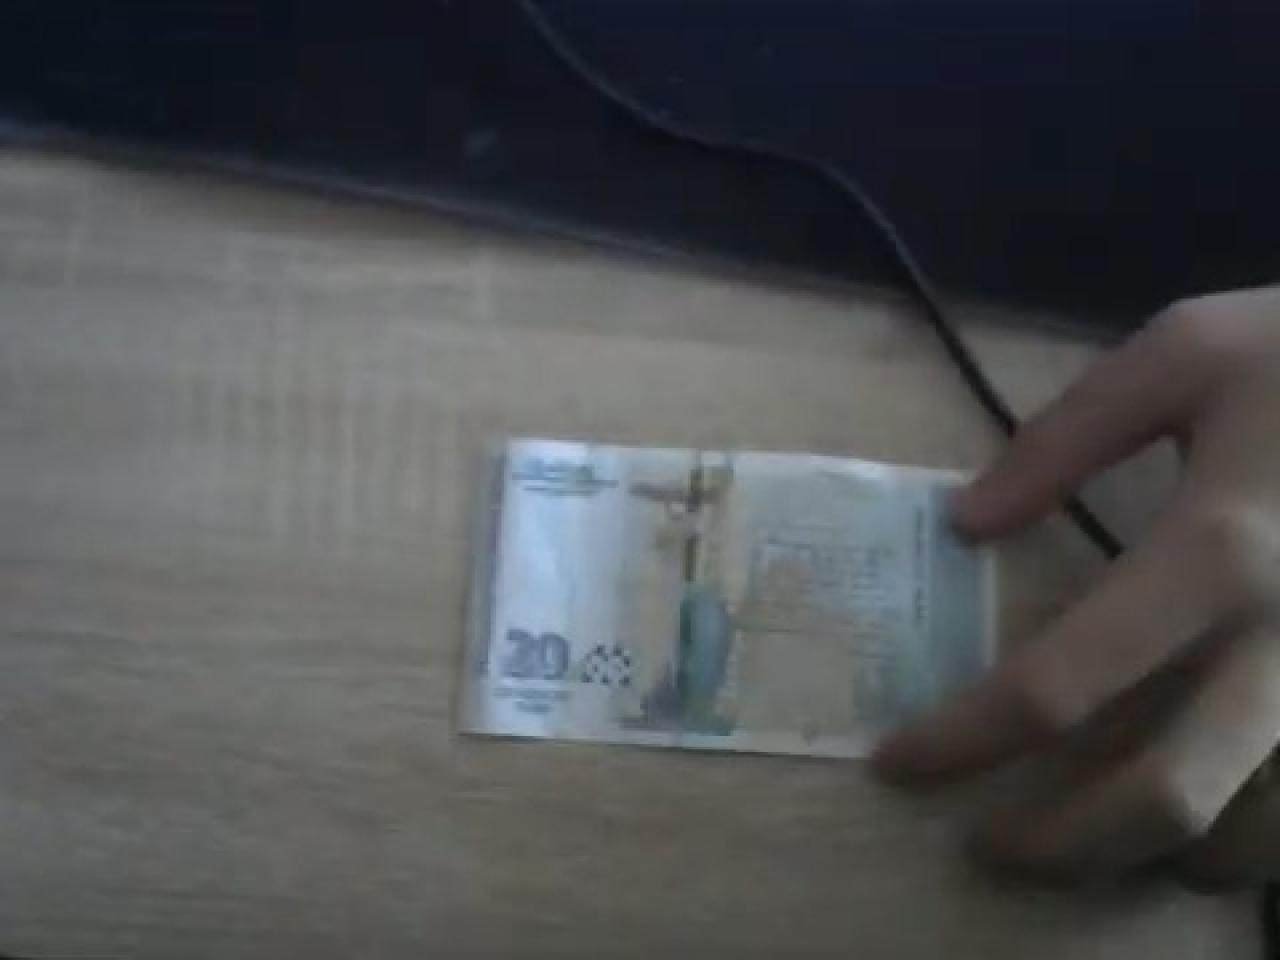20leva: (451, 433, 1003, 762)
